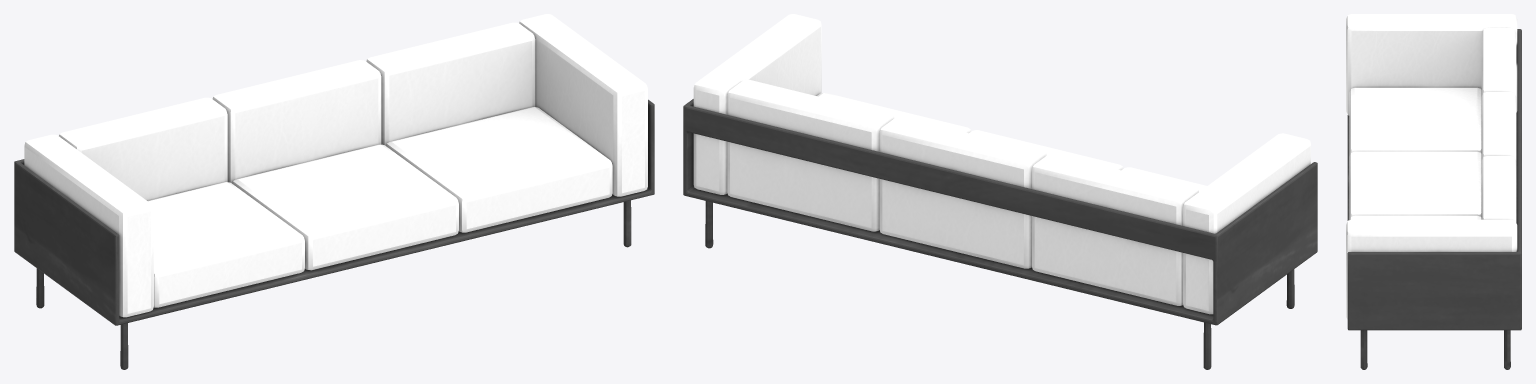
Rendered from LoungeChairBig.glb.
3 renders of one model, left to right at view 1: azimuth 30°, elevation 25°; view 2: azimuth 150°, elevation 25°; view 3: azimuth 270°, elevation 25°, orthographic. The views are drawn at different scales.
Visible parts, largest first — view 1: LoungeChairBig; view 2: LoungeChairBig; view 3: LoungeChairBig.
Boxes of the visible parts, bbox=[...] form: LoungeChairBig: bbox=[14, 14, 654, 369]; LoungeChairBig: bbox=[683, 14, 1317, 369]; LoungeChairBig: bbox=[1346, 14, 1521, 369].
Size of the model in its own units: 2.77 by 0.8218 by 0.9159.
1 material, 1 textured.
